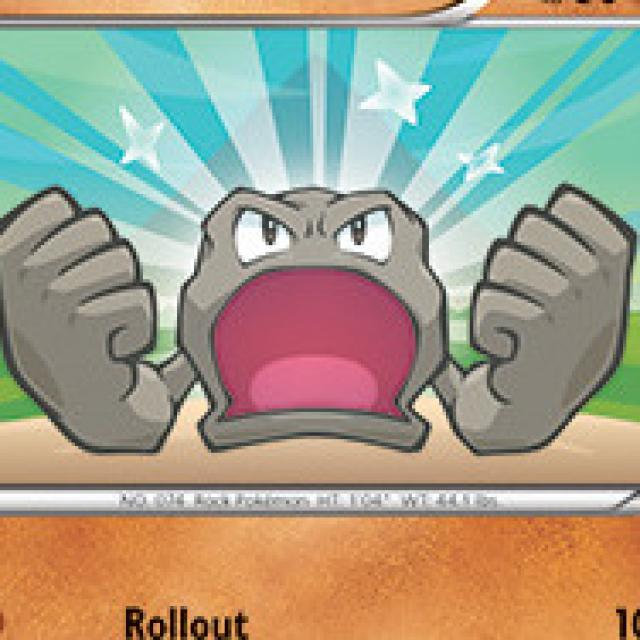Geodude: (0, 180, 631, 458)
